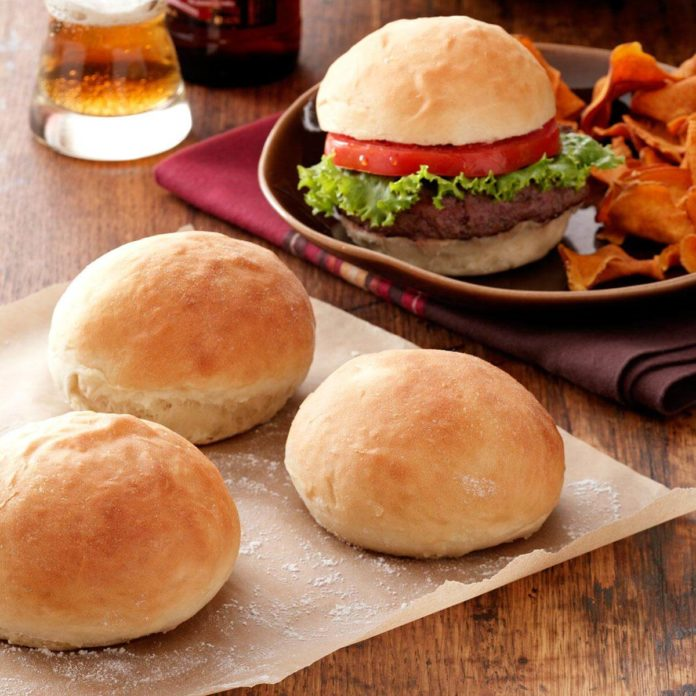hamburger_buns: (270, 337, 597, 568), (1, 404, 265, 640), (40, 225, 323, 439), (294, 20, 566, 141)
